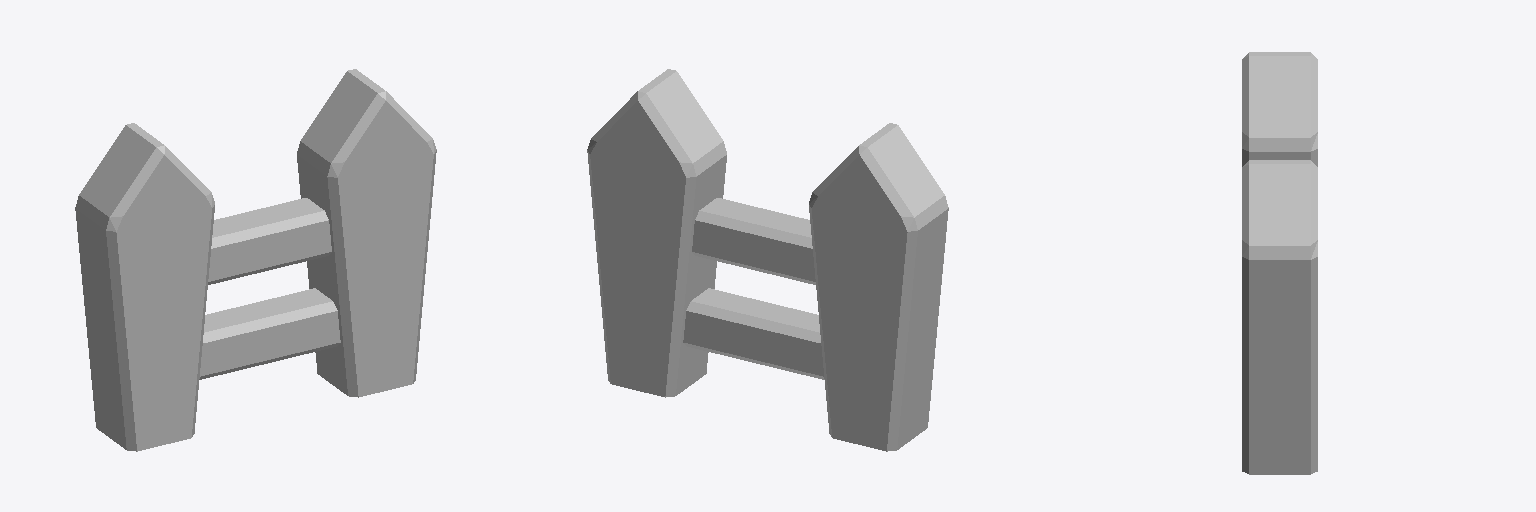
Rendered from fence_straight.obj.
3 views of the same model, side by side, from view 1: azimuth 30°, elevation 25°; view 2: azimuth 150°, elevation 25°; view 3: azimuth 270°, elevation 25° (orthographic).
Parts seen in each view (by area): view 1: fence_straight; view 2: fence_straight; view 3: fence_straight.
Boxes of the visible parts, x1,y1,x2,y2 form: fence_straight: [75, 69, 436, 451]; fence_straight: [587, 69, 948, 451]; fence_straight: [1242, 52, 1317, 474].
Size of the model in its own units: 1.49 by 1.28 by 0.3.